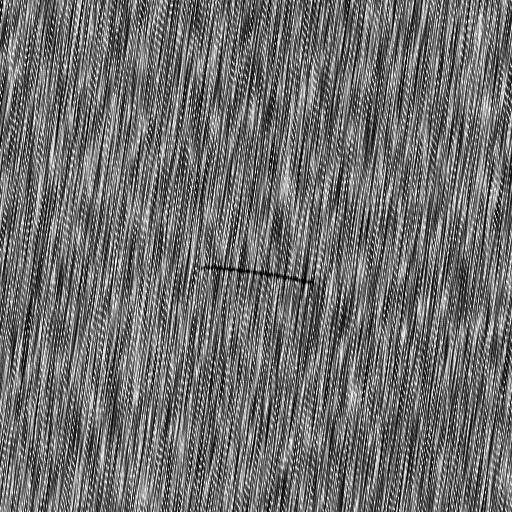DefectTypeC: (204, 263, 313, 288)
